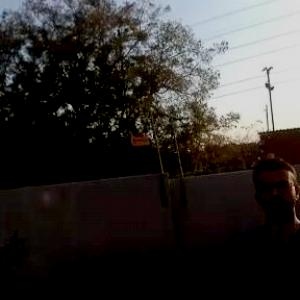follow: (231, 147, 300, 299)
